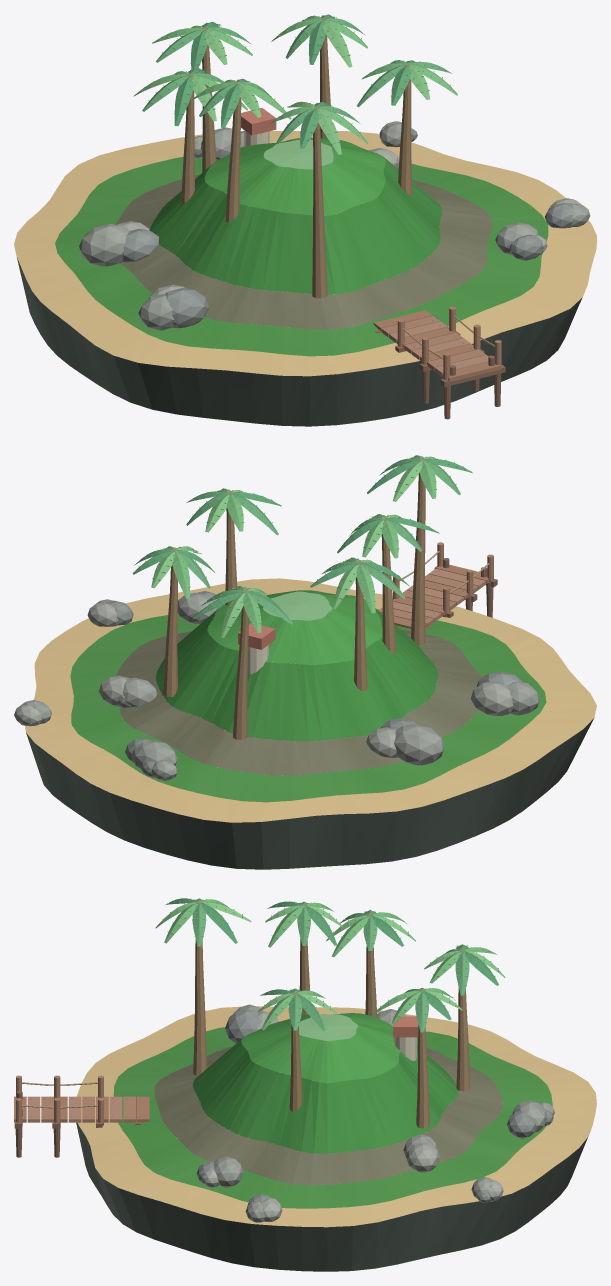
File: island_medium_lagoon.glb
The picture shows the model from 3 angles, top to bottom: view 1: azimuth 30°, elevation 25°; view 2: azimuth 150°, elevation 25°; view 3: azimuth 270°, elevation 25°; orthographic projection. The views are drawn at different scales.
Parts seen in each view (by area): view 1: Island_Lagoon_Large_Beach, Island_Lagoon_Large_Underwater_Rock, Island_Lagoon_Large_Meadow_Inner, Island_Lagoon_Large_Meadow_Outer, Island_Lagoon_Large_Rock_Slope, Island_Lagoon_Large_Hilltop, PalmTree_02, PalmTree_01, PalmTree_04, PalmTree_03, PalmTree_05, RockCluster_08 (+8 smaller); view 2: Island_Lagoon_Large_Beach, Island_Lagoon_Large_Underwater_Rock, Island_Lagoon_Large_Meadow_Outer, Island_Lagoon_Large_Meadow_Inner, Island_Lagoon_Large_Rock_Slope, Island_Lagoon_Large_Hilltop, PalmTree_02, PalmTree_05, PalmTree_06, PalmTree_04, PalmTree_03, PalmTree_01 (+10 smaller); view 3: Island_Lagoon_Large_Beach, Island_Lagoon_Large_Underwater_Rock, Island_Lagoon_Large_Meadow_Outer, Island_Lagoon_Large_Meadow_Inner, Island_Lagoon_Large_Rock_Slope, Island_Lagoon_Large_Hilltop, PalmTree_02, PalmTree_05, PalmTree_06, PalmTree_01, PalmTree_04, PalmTree_03 (+8 smaller).
Part boxes in pixels (left/top/right/bottom): Island_Lagoon_Large_Beach: left=14, top=131, right=596, bottom=376; Island_Lagoon_Large_Underwater_Rock: left=17, top=258, right=582, bottom=426; Island_Lagoon_Large_Meadow_Inner: left=150, top=156, right=442, bottom=294; Island_Lagoon_Large_Meadow_Outer: left=55, top=156, right=548, bottom=356; Island_Lagoon_Large_Rock_Slope: left=115, top=174, right=492, bottom=329; Island_Lagoon_Large_Hilltop: left=204, top=137, right=385, bottom=215; PalmTree_02: left=270, top=101, right=367, bottom=298; PalmTree_01: left=357, top=60, right=457, bottom=195; PalmTree_04: left=133, top=68, right=247, bottom=205; PalmTree_03: left=192, top=78, right=291, bottom=222; PalmTree_05: left=152, top=22, right=252, bottom=172; RockCluster_08: left=79, top=221, right=158, bottom=266; Island_Lagoon_Large_Beach: left=25, top=578, right=596, bottom=822; Island_Lagoon_Large_Underwater_Rock: left=26, top=718, right=593, bottom=869; Island_Lagoon_Large_Meadow_Outer: left=70, top=604, right=546, bottom=802; Island_Lagoon_Large_Meadow_Inner: left=156, top=608, right=437, bottom=741; Island_Lagoon_Large_Rock_Slope: left=116, top=630, right=482, bottom=775; Island_Lagoon_Large_Hilltop: left=207, top=590, right=382, bottom=664; PalmTree_02: left=367, top=455, right=472, bottom=645; PalmTree_05: left=193, top=586, right=292, bottom=739; PalmTree_06: left=132, top=546, right=214, bottom=697; PalmTree_04: left=310, top=557, right=409, bottom=691; PalmTree_03: left=337, top=514, right=439, bottom=653; PalmTree_01: left=186, top=488, right=281, bottom=604; Island_Lagoon_Large_Beach: left=77, top=1006, right=596, bottom=1227; Island_Lagoon_Large_Underwater_Rock: left=76, top=1122, right=590, bottom=1271; Island_Lagoon_Large_Meadow_Outer: left=113, top=1027, right=552, bottom=1208; Island_Lagoon_Large_Meadow_Inner: left=192, top=1037, right=458, bottom=1153; Island_Lagoon_Large_Rock_Slope: left=154, top=1045, right=502, bottom=1185; Island_Lagoon_Large_Hilltop: left=241, top=1013, right=400, bottom=1082; PalmTree_02: left=155, top=898, right=251, bottom=1075; PalmTree_05: left=424, top=944, right=505, bottom=1091; PalmTree_06: left=372, top=987, right=462, bottom=1128; PalmTree_01: left=258, top=988, right=337, bottom=1111; PalmTree_04: left=326, top=910, right=415, bottom=1017; PalmTree_03: left=265, top=901, right=342, bottom=1014.
Bounding box in the file's own units: 16.07 × 8.12 × 17.92.
